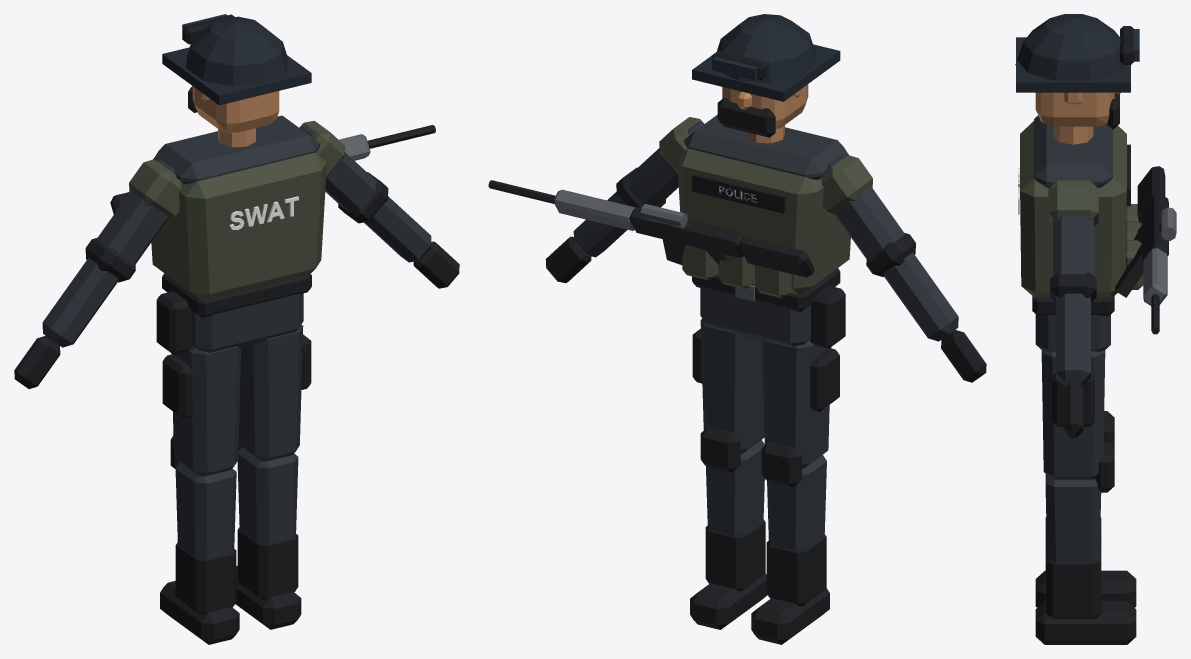
Rendered from PD_SWAT_Officer.fbx.
The picture shows the model from 3 angles, left to right: view 1: azimuth 30°, elevation 25°; view 2: azimuth 150°, elevation 25°; view 3: azimuth 270°, elevation 25°; orthographic projection.
Visible parts, largest first — view 1: PD_SWAT_Officer_Body, PD_SWAT_Officer_Rifle; view 2: PD_SWAT_Officer_Body, PD_SWAT_Officer_Rifle; view 3: PD_SWAT_Officer_Body, PD_SWAT_Officer_Rifle.
Boxes of the visible parts, x1=… form: PD_SWAT_Officer_Body: x1=14, y1=14, x2=459, y2=644; PD_SWAT_Officer_Rifle: x1=110, y1=125, x2=435, y2=214; PD_SWAT_Officer_Body: x1=545, y1=14, x2=986, y2=644; PD_SWAT_Officer_Rifle: x1=488, y1=180, x2=814, y2=277; PD_SWAT_Officer_Body: x1=1015, y1=14, x2=1143, y2=644; PD_SWAT_Officer_Rifle: x1=1114, y1=166, x2=1176, y2=334.
Size of the model in its own units: 1.49 by 1.86 by 0.4496.
